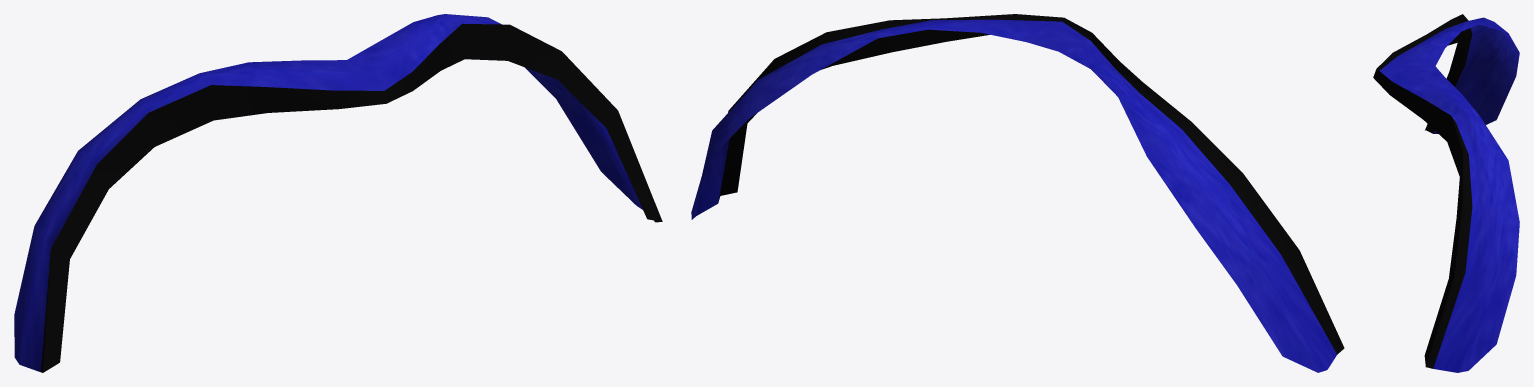
The model's file is Eyelids.obj.
3 views of the same model, side by side, from view 1: azimuth 30°, elevation 25°; view 2: azimuth 150°, elevation 25°; view 3: azimuth 270°, elevation 25° (orthographic). The views are drawn at different scales.
Parts seen in each view (by area): view 1: V1_U2_P20_N0; view 2: V1_U2_P20_N0; view 3: V1_U2_P20_N0.
Boxes of the visible parts, x1=… form: V1_U2_P20_N0: x1=14, y1=14, x2=662, y2=372; V1_U2_P20_N0: x1=691, y1=14, x2=1344, y2=372; V1_U2_P20_N0: x1=1373, y1=14, x2=1519, y2=372.
Bounding box in the file's own units: 2.72 × 1.02 × 0.7036.
